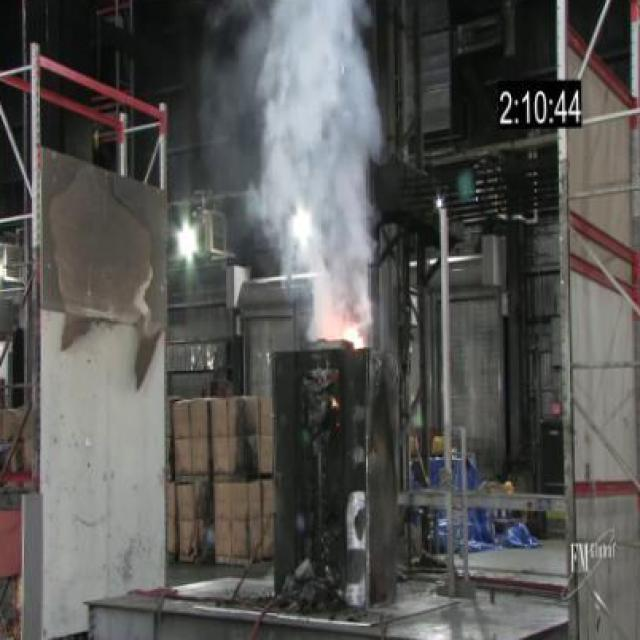fire: (234, 0, 396, 274)
smoke: (334, 323, 372, 352)
